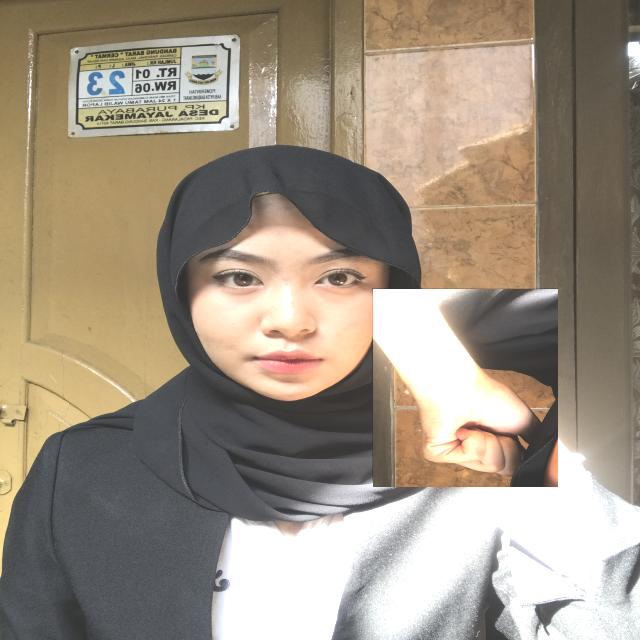ibu: (372, 288, 558, 487)
